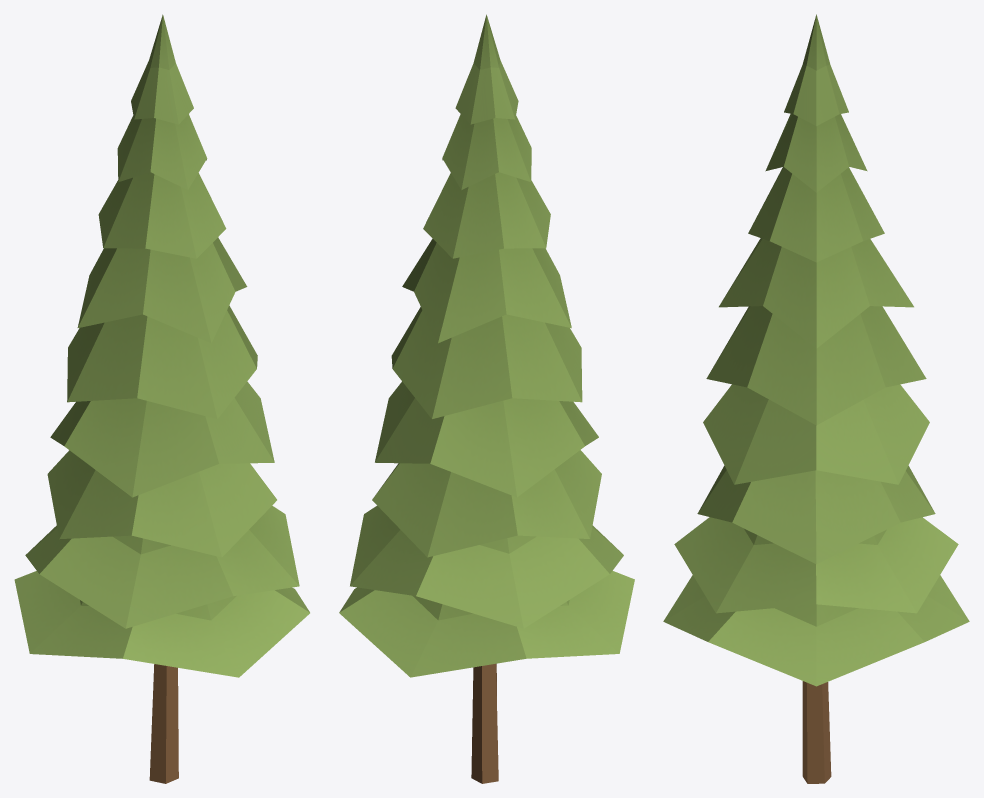
The model's file is Pine_Tree_l_BT_01.fbx.
3 views of the same model, side by side, from view 1: azimuth 30°, elevation 25°; view 2: azimuth 150°, elevation 25°; view 3: azimuth 270°, elevation 25° (orthographic).
Parts seen in each view (by area): view 1: Pine_Tree_l_BT_01; view 2: Pine_Tree_l_BT_01; view 3: Pine_Tree_l_BT_01.
Boxes of the visible parts, x1,y1,x2,y2 form: Pine_Tree_l_BT_01: (14,14,309,783); Pine_Tree_l_BT_01: (339,14,634,783); Pine_Tree_l_BT_01: (663,14,969,783).
Bounding box in the file's own units: 718 × 1975 × 718.
